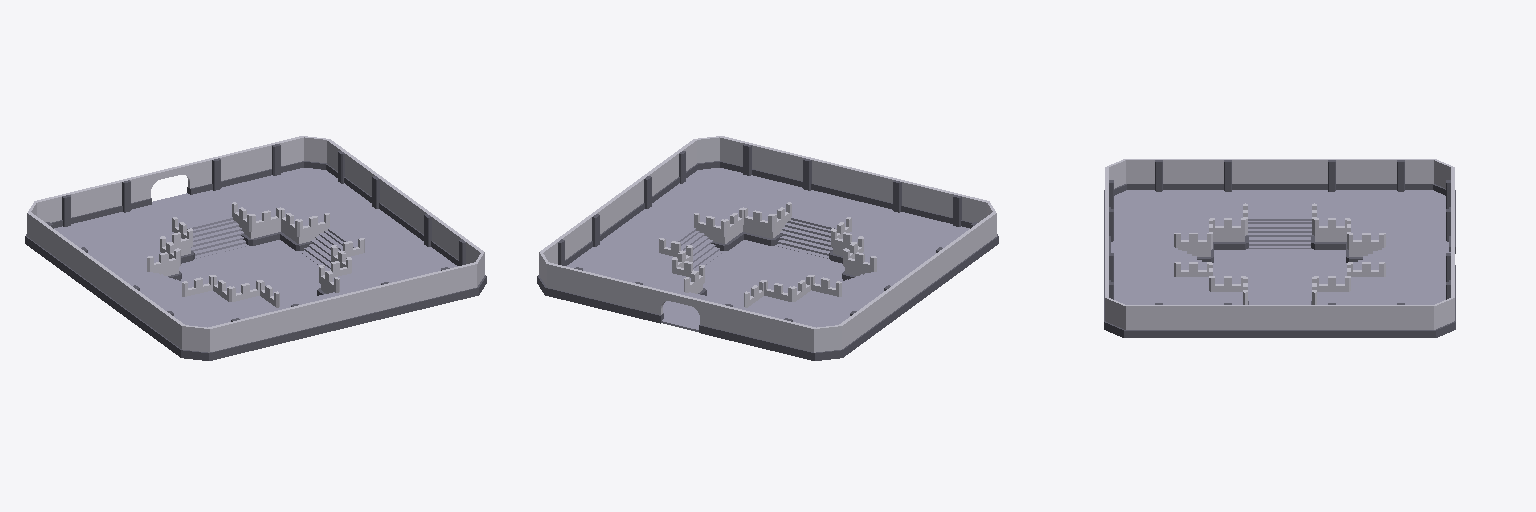
The model's file is room_md_01.obj.
The picture shows the model from 3 angles: view 1: azimuth 30°, elevation 25°; view 2: azimuth 150°, elevation 25°; view 3: azimuth 270°, elevation 25°; orthographic projection.
Parts seen in each view (by area): view 1: floor_01_122, floor_01_129, floor_01_99, floor_01_123, floor_01_126, floor_01_124, floor_01_125, floor_02_131, corner_02_148, floor_01_100, floor_01_98, corner_02_146 (+28 smaller); view 2: floor_01_120, floor_01_100, floor_01_118, floor_01_123, floor_01_126, floor_01_124, floor_01_119, corner_02_151, floor_02_132, floor_01_99, corner_02_147, floor_01_97 (+28 smaller); view 3: floor_01_121, floor_01_128, floor_01_97, floor_01_120, floor_01_129, floor_01_118, floor_01_125, floor_01_98, floor_01_127, floor_01_119, floor_01_122, floor_02_133 (+28 smaller).
Boxes of the visible parts, box(x1,y1,x2,y2) form: floor_01_122: box(140, 192, 232, 230); floor_01_129: box(80, 207, 171, 245); floor_01_99: box(224, 240, 314, 277); floor_01_123: box(328, 213, 420, 252); floor_01_126: box(363, 238, 451, 278); floor_01_124: box(294, 189, 384, 226); floor_01_125: box(200, 179, 293, 214); floor_02_131: box(259, 168, 350, 202); corner_02_148: box(172, 319, 224, 360); floor_01_100: box(255, 263, 325, 302); floor_01_98: box(179, 252, 253, 287); corner_02_146: box(288, 136, 337, 174); floor_01_120: box(851, 207, 943, 246); floor_01_100: box(709, 240, 802, 277); floor_01_118: box(791, 192, 883, 230); floor_01_123: box(604, 213, 695, 251); floor_01_126: box(639, 187, 729, 226); floor_01_124: box(572, 238, 660, 278); floor_01_119: box(729, 178, 822, 213); corner_02_151: box(799, 319, 851, 360); floor_02_132: box(675, 168, 760, 201); floor_01_99: box(698, 263, 768, 302); corner_02_147: box(686, 136, 734, 174); floor_01_97: box(770, 253, 844, 287); floor_01_121: box(1243, 190, 1316, 220); floor_01_128: box(1312, 190, 1385, 218); floor_01_97: box(1213, 249, 1281, 276); floor_01_120: box(1111, 217, 1177, 246); floor_01_129: box(1384, 217, 1448, 246); floor_01_118: box(1111, 247, 1177, 276); floor_01_125: box(1382, 275, 1445, 304); floor_01_98: box(1278, 249, 1346, 276); floor_01_127: box(1174, 190, 1247, 216); floor_01_119: box(1114, 275, 1177, 304); floor_01_122: box(1382, 247, 1450, 274); floor_02_133: box(1114, 190, 1177, 216).
Size of the model in its own units: 10.21 by 1.5 by 10.21.